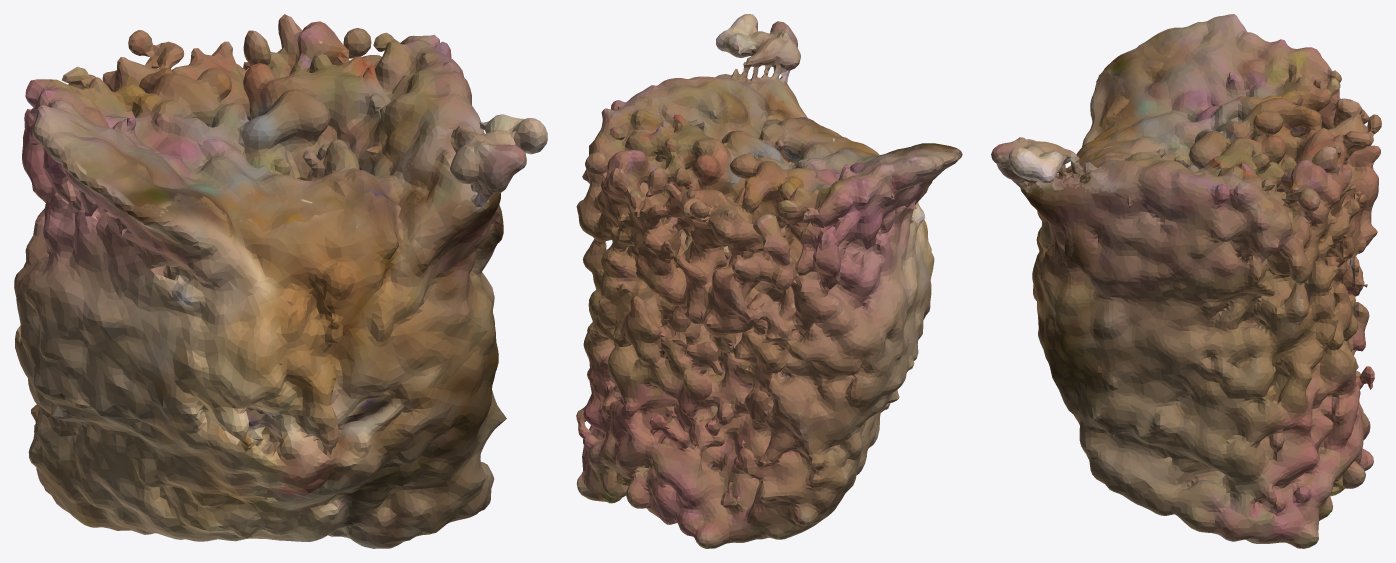
The picture shows the model from 3 angles, left to right: view 1: azimuth 30°, elevation 25°; view 2: azimuth 150°, elevation 25°; view 3: azimuth 270°, elevation 25°; orthographic projection. The views are drawn at different scales.
Size of the model in its own units: 1.54 by 1.73 by 1.54.
1 material, 1 textured.
